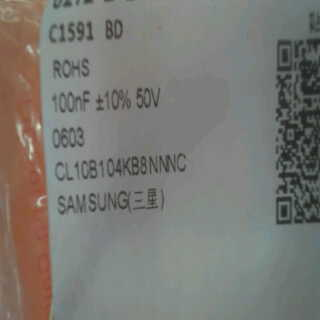100nF: (46, 89, 97, 117)
